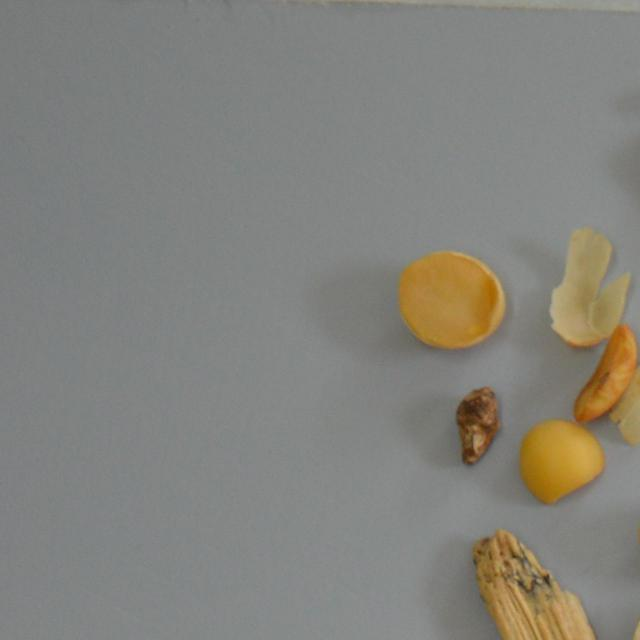cuerpos_extranos: (473, 530, 624, 640), (401, 250, 504, 354), (546, 230, 636, 348), (510, 414, 610, 508), (550, 324, 639, 420), (453, 382, 502, 468), (607, 352, 640, 446)
